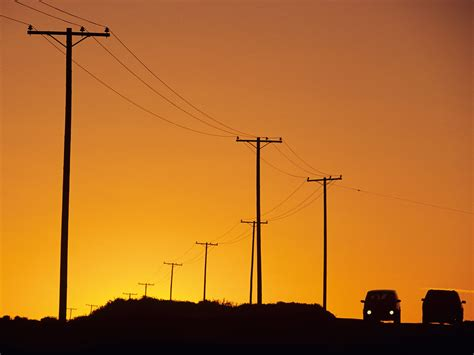pole: (22, 21, 108, 323), (227, 130, 285, 306), (160, 217, 277, 299), (301, 169, 360, 308)
